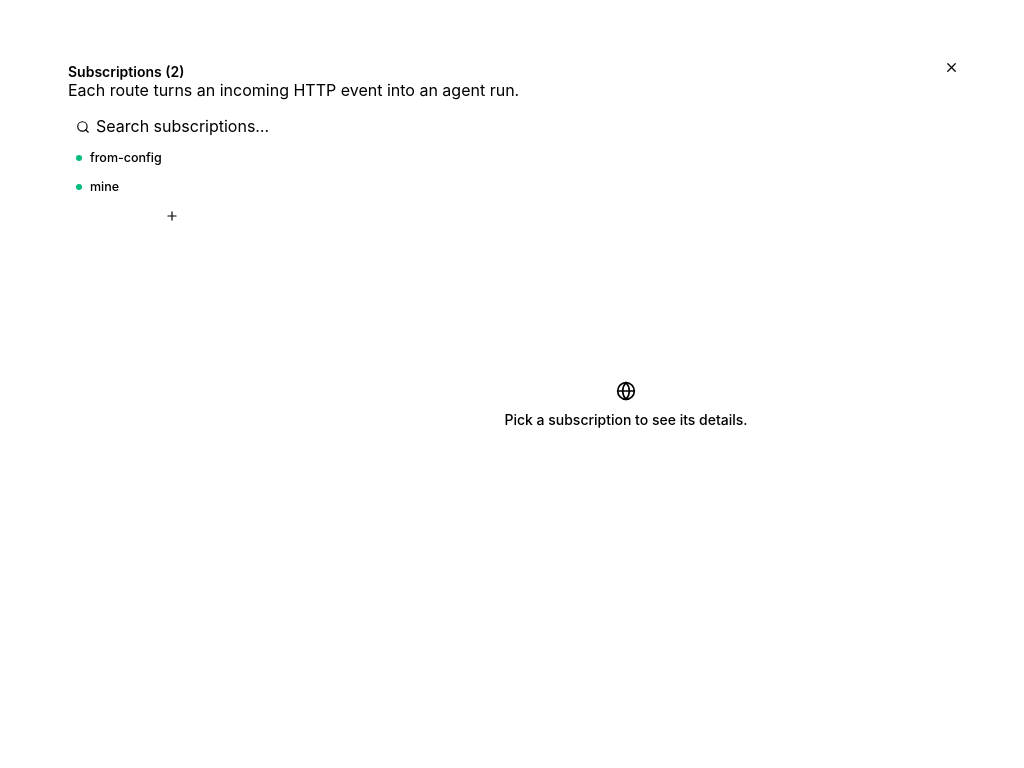
Scenario: WebhooksOverlay › a config route is read-only; a subscribed route has a row menu
Expected: the heading "Subscriptions (2)" is shown, x1=68 y1=63 x2=184 y2=80
Click the button "from-config" at [172, 158], box x1=68 y1=144 x2=276 y2=172
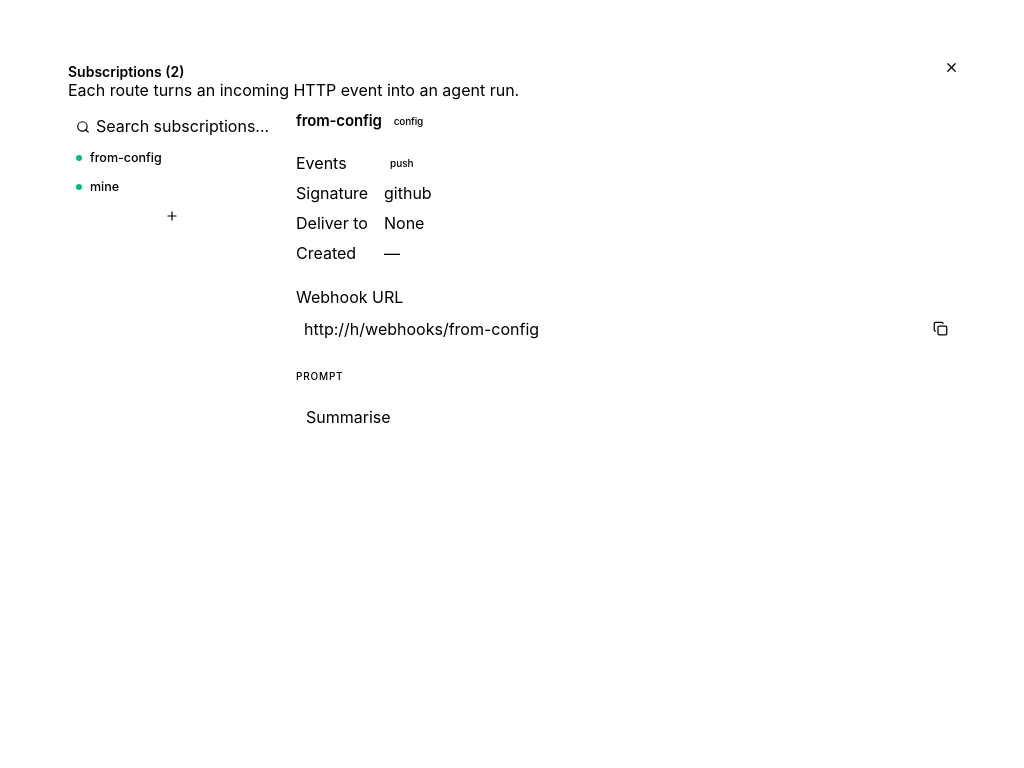
Now the text "config" is shown, box x1=394 y1=115 x2=423 y2=127
Now the text "http://h/webhooks/from-config" is shown, box x1=304 y1=318 x2=539 y2=338
